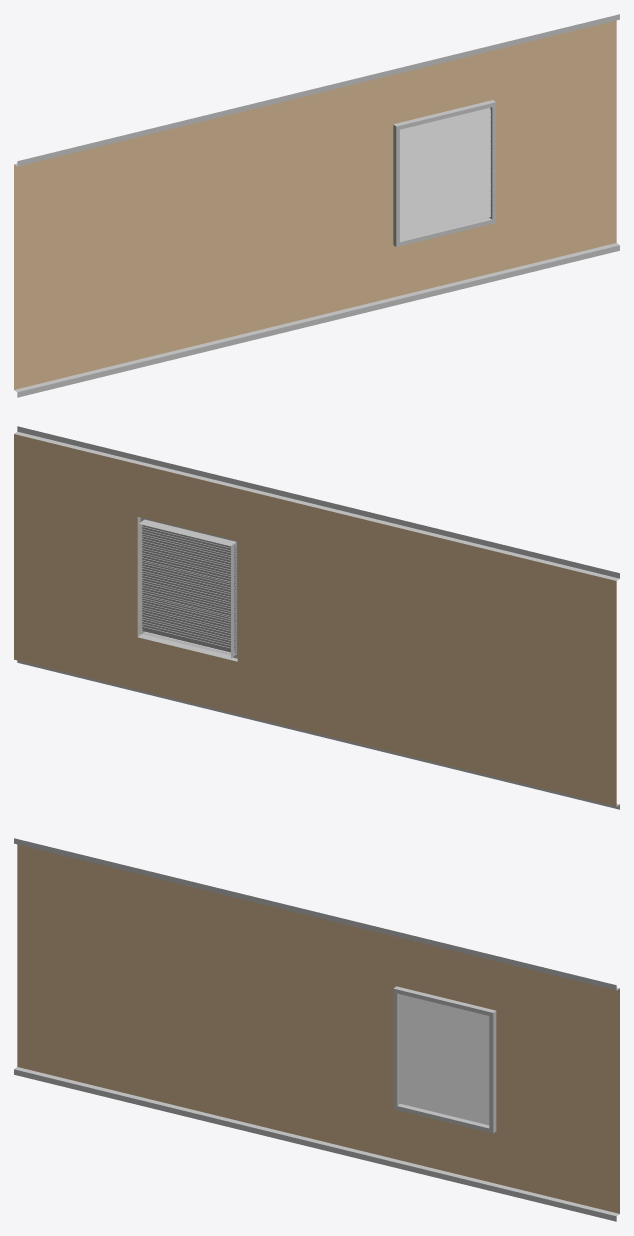
Rendered from WallWindow01.fbx.
3 renders of one model, top to bottom at view 1: azimuth 30°, elevation 25°; view 2: azimuth 150°, elevation 25°; view 3: azimuth 330°, elevation 25°, orthographic.
Parts seen in each view (by area): view 1: Wall_Window01; view 2: Wall_Window01; view 3: Wall_Window01.
Boxes of the visible parts, x1,y1,x2,y2 form: Wall_Window01: [14, 14, 619, 397]; Wall_Window01: [14, 426, 619, 809]; Wall_Window01: [14, 838, 619, 1221].
Size of the model in its own units: 8 by 3 by 0.1359.
